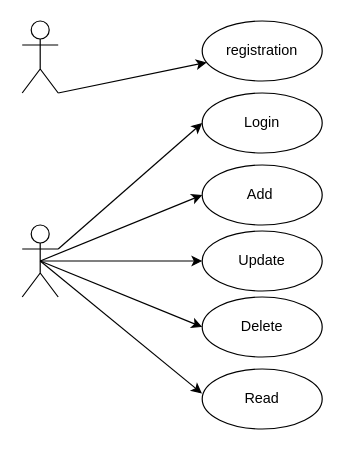
Image size: 343x450. Some labels were removed from this diagram. The centre of each missing label's shape, as x and y in pixels:
Guest: point (39, 56)
User: point (39, 260)
